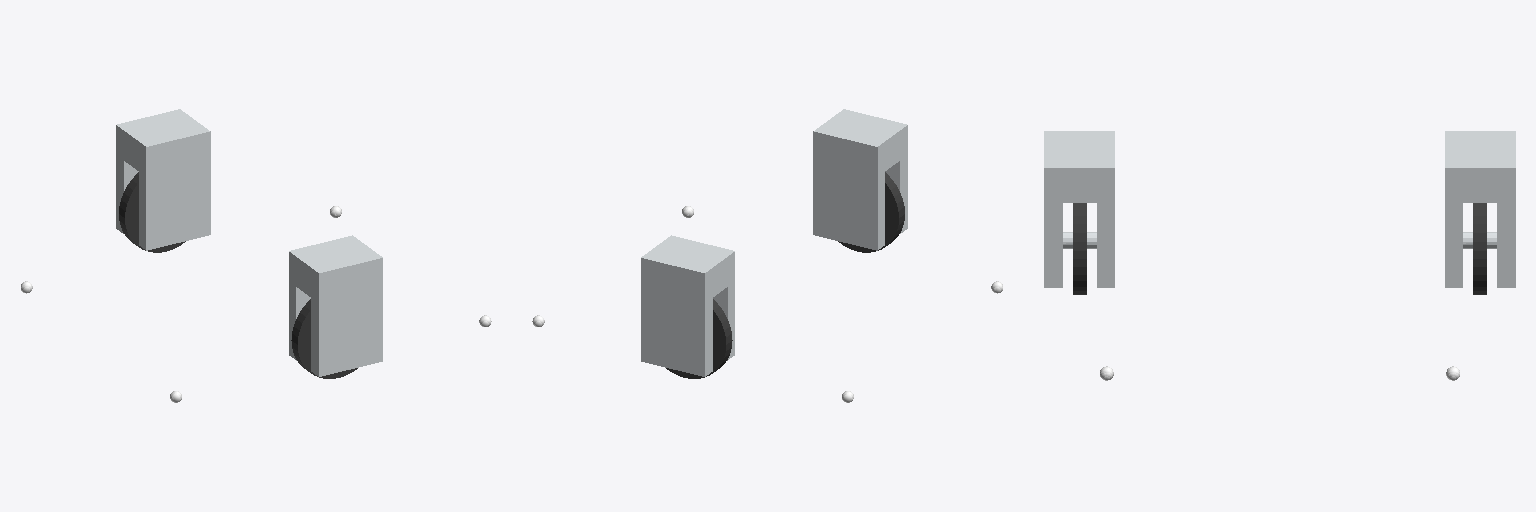
URDF robot description (robot_urdf):
<?xml version="1.0" encoding="utf-8"?>
<!-- This URDF was automatically created by SolidWorks to URDF Exporter! Originally created by
Stephen Brawner (brawner@gmail.com) 
     Commit Version: 1.6.0-4-g7f85cfe  Build Version: 1.6.7995.38578
     For more information, please see http://wiki.ros.org/sw_urdf_exporter -->
<robot
  name="robot_urdf">
  <link
    name="base_link">
  </link>
  <link
    name="chassis_link">
    <inertial>
      <origin
        xyz="-0.0030051 -1.8562E-16 -0.017698"
        rpy="0 0 0" />
      <mass
        value="62.522" />
      <inertia
        ixx="27.455"
        ixy="-5.3495E-14"
        ixz="-0.071116"
        iyy="29.275"
        iyz="-1.4035E-15"
        izz="51.49" />
    </inertial>
    <visual>
      <origin
        xyz="0 0 0"
        rpy="0 0 0" />
      <geometry>
        <mesh
          filename="package://robot_urdf/meshes/2w/chassis_link.STL" />
      </geometry>
      <material
        name="">
        <color
          rgba="0.89804 0.91765 0.92941 1" />
      </material>
    </visual>
    <collision>
      <origin
        xyz="0 0 0"
        rpy="0 0 0" />
      <geometry>
        <mesh
          filename="package://robot_urdf/meshes/2w/chassis_link.STL" />
      </geometry>
    </collision>
  </link>
  <joint
    name="chassis_joint"
    type="fixed">
    <origin
      xyz="0.067275 0 0.96832"
      rpy="0 0 0" />
    <parent
      link="base_link" />
    <child
      link="chassis_link" />
    <axis
      xyz="0 0 0" />
  </joint>
  <link
    name="left_wheel_holder_link">
    <inertial>
      <origin
        xyz="1.87350135405495E-16 -2.22044604925031E-16 -0.22960073744632"
        rpy="0 0 0" />
      <mass
        value="4.24194552497602" />
      <inertia
        ixx="0.12870471215313"
        ixy="-1.05546231829706E-16"
        ixz="-1.60218871072035E-16"
        iyy="0.135223950425351"
        iyz="4.92528640356397E-17"
        izz="0.0791209297176001" />
    </inertial>
    <visual>
      <origin
        xyz="0 0 0"
        rpy="0 0 0" />
      <geometry>
        <mesh
          filename="package://robot_urdf/meshes/2w/left_wheel_holder_link.STL" />
      </geometry>
      <material
        name="">
        <color
          rgba="0.898039215686275 0.917647058823529 0.929411764705882 1" />
      </material>
    </visual>
    <collision>
      <origin
        xyz="0 0 0"
        rpy="0 0 0" />
      <geometry>
        <mesh
          filename="package://robot_urdf/meshes/2w/left_wheel_holder_link.STL" />
      </geometry>
    </collision>
  </link>
  <joint
    name="left_wheel_holder_joint"
    type="fixed">
    <origin
      xyz="-0.067275 0.7012 -0.42432"
      rpy="0 0 0" />
    <parent
      link="chassis_link" />
    <child
      link="left_wheel_holder_link" />
    <axis
      xyz="0 0 0" />
  </joint>
  <link
    name="left_wheel_link">
    <inertial>
      <origin
        xyz="-6.93889390390723E-18 1.11022302462516E-16 -2.77555756156289E-17"
        rpy="0 0 0" />
      <mass
        value="5.91184905552528" />
      <inertia
        ixx="0.0568562229833385"
        ixy="-6.91191767359212E-18"
        ixz="-4.24872496741667E-34"
        iyy="0.111249175526875"
        iyz="-5.54086297297122E-35"
        izz="0.0568562229833384" />
    </inertial>
    <visual>
      <origin
        xyz="0 0 0"
        rpy="0 0 0" />
      <geometry>
        <mesh
          filename="package://robot_urdf/meshes/2w/left_wheel_link.STL" />
      </geometry>
      <material
        name="">
        <color
          rgba="0.298039215686275 0.298039215686275 0.298039215686275 1" />
      </material>
    </visual>
    <collision>
      <origin
        xyz="0 0 0"
        rpy="0 0 0" />
      <geometry>
        <mesh
          filename="package://robot_urdf/meshes/2w/left_wheel_link.STL" />
      </geometry>
    </collision>
  </link>
  <joint
    name="left_wheel_joint"
    type="continuous">
    <origin
      xyz="0 0 -0.35"
      rpy="0 0 0" />
    <parent
      link="left_wheel_holder_link" />
    <child
      link="left_wheel_link" />
    <axis
      xyz="0 -1 0" />
    <limit
      effort="100"
      velocity="10" />
    <dynamics damping="0.1" friction="0.05" />
  </joint>
  <link
    name="right_wheel_holder_link">
    <inertial>
      <origin
        xyz="1.04083408558608E-16 -1.11022302462516E-16 -0.229600737446319"
        rpy="0 0 0" />
      <mass
        value="4.24194552497604" />
      <inertia
        ixx="0.12870471215313"
        ixy="-8.86107503999811E-17"
        ixz="-1.77922564794508E-16"
        iyy="0.135223950425352"
        iyz="-4.8677348105335E-18"
        izz="0.0791209297176007" />
    </inertial>
    <visual>
      <origin
        xyz="0 0 0"
        rpy="0 0 0" />
      <geometry>
        <mesh
          filename="package://robot_urdf/meshes/2w/right_wheel_holder_link.STL" />
      </geometry>
      <material
        name="">
        <color
          rgba="0.898039215686275 0.917647058823529 0.929411764705882 1" />
      </material>
    </visual>
    <collision>
      <origin
        xyz="0 0 0"
        rpy="0 0 0" />
      <geometry>
        <mesh
          filename="package://robot_urdf/meshes/2w/right_wheel_holder_link.STL" />
      </geometry>
    </collision>
  </link>
  <joint
    name="right_wheel_holder_joint"
    type="fixed">
    <origin
      xyz="-0.067275 -0.7012 -0.42432"
      rpy="0 0 0" />
    <parent
      link="chassis_link" />
    <child
      link="right_wheel_holder_link" />
    <axis
      xyz="0 0 0" />
  </joint>
  <link
    name="right_wheel_link">
    <inertial>
      <origin
        xyz="-6.93889390390723E-18 -1.11022302462516E-16 -2.77555756156289E-17"
        rpy="0 0 0" />
      <mass
        value="5.91184905552528" />
      <inertia
        ixx="0.0568562229833385"
        ixy="-3.21890613138286E-35"
        ixz="-8.41424213201121E-34"
        iyy="0.111249175526875"
        iyz="1.47334202303585E-18"
        izz="0.0568562229833385" />
    </inertial>
    <visual>
      <origin
        xyz="0 0 0"
        rpy="0 0 0" />
      <geometry>
        <mesh
          filename="package://robot_urdf/meshes/2w/right_wheel_link.STL" />
      </geometry>
      <material
        name="">
        <color
          rgba="0.298039215686275 0.298039215686275 0.298039215686275 1" />
      </material>
    </visual>
    <collision>
      <origin
        xyz="0 0 0"
        rpy="0 0 0" />
      <geometry>
        <mesh
          filename="package://robot_urdf/meshes/2w/right_wheel_link.STL" />
      </geometry>
    </collision>
  </link>
  <joint
    name="right_wheel_joint"
    type="continuous">
    <origin
      xyz="0 0 -0.35"
      rpy="0 0 0" />
    <parent
      link="right_wheel_holder_link" />
    <child
      link="right_wheel_link" />
    <axis
      xyz="0 -1 0" />
    <limit
      effort="100"
      velocity="10" />
    <dynamics damping="0.1" friction="0.05" />
  </joint>
  <link
    name="ball_link_fl">
    <visual>
      <origin
        xyz="0 0 0"
        rpy="0 0 0" />
      <geometry>
        <sphere radius="0.025" />
      </geometry>
      <material
        name="">
        <color
          rgba="1 1 1 1" />
      </material>
    </visual>
    <collision>
      <origin xyz="0 0 0" rpy="0 0 0" />
      <geometry>
        <sphere radius="0.025" />
      </geometry>
    </collision>
  </link>
  <joint
    name="ball_joint_fl"
    type="fixed">
    <origin
      xyz="0.68801 0.6072 -0.93832"
      rpy="0 0 0" />
    <parent
      link="chassis_link" />
    <child
      link="ball_link_fl" />
    <axis
      xyz="0 1 0" />
  </joint>
  <link
    name="ball_link_fr">
    <visual>
      <origin
        xyz="0 0 0"
        rpy="0 0 0" />
      <geometry>
        <sphere radius="0.025" />
      </geometry>
      <material
        name="">
        <color
          rgba="1 1 1 1" />
      </material>
    </visual>
    <collision>
      <origin xyz="0 0 0" rpy="0 0 0" />
      <geometry>
        <sphere radius="0.025" />
      </geometry>
    </collision>
  </link>
  <joint
    name="ball_joint_fr"
    type="fixed">
    <origin
      xyz="0.68801 -0.6072 -0.93832"
      rpy="0 0 0" />
    <parent
      link="chassis_link" />
    <child
      link="ball_link_fr" />
    <axis
      xyz="0 1 0" />
  </joint>
  <link
    name="ball_link_br">
    <visual>
      <origin
        xyz="0 0 0"
        rpy="0 0 0" />
      <geometry>
        <sphere radius="0.025" />
      </geometry>
      <material
        name="">
        <color
          rgba="1 1 1 1" />
      </material>
    </visual>
    <collision>
      <origin xyz="0 0 0" rpy="0 0 0" />
      <geometry>
        <sphere radius="0.025" />
      </geometry>
    </collision>
  </link>
  <joint
    name="ball_joint_br"
    type="fixed">
    <origin
      xyz="-0.76256 -0.6072 -0.93832"
      rpy="0 0 0" />
    <parent
      link="chassis_link" />
    <child
      link="ball_link_br" />
    <axis
      xyz="0 1 0" />
  </joint>
  <link
    name="ball_link_bl">
    <visual>
      <origin
        xyz="0 0 0"
        rpy="0 0 0" />
      <geometry>
        <sphere radius="0.025" />
      </geometry>
      <material
        name="">
        <color
          rgba="1 1 1 1" />
      </material>
    </visual>
    <collision>
      <origin xyz="0 0 0" rpy="0 0 0" />
      <geometry>
        <sphere radius="0.025" />
      </geometry>
    </collision>
  </link>
  <joint
    name="ball_joint_bl"
    type="fixed">
    <origin
      xyz="-0.76256 0.6072 -0.93832"
      rpy="0 0 0" />
    <parent
      link="chassis_link" />
    <child
      link="ball_link_bl" />
    <axis
      xyz="0 1 0" />
  </joint>

  <link
    name="depth_link_r">
  </link>

  <joint
    name="depth_joint_r"
    type="fixed">
    <origin
      xyz="1.017 -0.45 -0.21645"
      rpy="0 0.7853982 0.2618" />
    <parent
      link="chassis_link" />
    <child
      link="depth_link_r" />
    <axis
      xyz="0 0 0" />
  </joint>

  <link
    name="depth_link_l">
  </link>

  <joint
    name="depth_joint_l"
    type="fixed">
    <origin
      xyz="1.017 0.45 -0.21645"
      rpy="0 0.7853982 -0.2618" />
    <parent
      link="chassis_link" />
    <child
      link="depth_link_l" />
    <axis
      xyz="0 0 0" />
  </joint>

  <ros2_control name="IgnitionSystem" type="system">

    <hardware>
      <plugin>ign_ros2_control/IgnitionSystem</plugin>
    </hardware>

    <joint name="left_wheel_joint">
      <command_interface name="velocity" />
      <state_interface name="position" />
      <state_interface name="velocity" />
    </joint>

    <joint name="right_wheel_joint">
      <command_interface name="velocity" />
      <state_interface name="position" />
      <state_interface name="velocity" />
    </joint>

  </ros2_control>

  <gazebo>

    <plugin filename="libign_ros2_control-system.so"
      name="ign_ros2_control::IgnitionROS2ControlPlugin">
      <robot_param>robot_description</robot_param>
      <robot_param_node>robot_state_publisher</robot_param_node>
      <parameters>/home/manfred/Projects/Vitrox/src/robot_urdf/config/diffdrive.yaml</parameters>
    </plugin>

  </gazebo>

  <gazebo reference="left_wheel_link">
    <mu1>1.2</mu1>
    <mu2>1.2</mu2>
    <kp>1000000.0</kp>
    <kd>100.0</kd>
    <minDepth>0.001</minDepth>
    <maxContacts>1</maxContacts>
  </gazebo>

  <gazebo reference="right_wheel_link">
    <mu1>1.2</mu1>
    <mu2>1.2</mu2>
    <kp>1000000.0</kp>
    <kd>100.0</kd>
    <minDepth>0.001</minDepth>
    <maxContacts>1</maxContacts>
  </gazebo>

  <gazebo reference="ball_link_fl">
    <mu1>0.0</mu1>
    <mu2>0.0</mu2>
  </gazebo>

  <gazebo reference="ball_link_fr">
    <mu1>0.0</mu1>
    <mu2>0.0</mu2>
  </gazebo>

  <gazebo reference="ball_link_br">
    <mu1>0.0</mu1>
    <mu2>0.0</mu2>
  </gazebo>

  <gazebo reference="ball_link_bl">
    <mu1>0.0</mu1>
    <mu2>0.0</mu2>
  </gazebo>

  <gazebo reference="depth_link_l">
    <sensor name="depth_sensor_l" type="gpu_lidar">
      <ignition_frame_id>depth_link_l</ignition_frame_id>
      <topic>lidar_l</topic>
      <update_rate>10</update_rate>
      <always_on>true</always_on>
      <visualize>false</visualize> <!-- Keep false to save resources unless debugging rays -->
      <lidar>
        <scan>
          <horizontal>
            <samples>360</samples>
            <resolution>1</resolution>
            <min_angle>-0.50705</min_angle>
            <max_angle>0.50705</max_angle>
          </horizontal>
          <vertical>
            <samples>100</samples> <!-- 16 vertical slices provides a good 3D point cloud -->
            <resolution>1</resolution>
            <min_angle>-0.39445</min_angle> <!-- -15 degrees -->
            <max_angle>0.39445</max_angle>  <!-- +15 degrees -->
          </vertical>
        </scan>
        <range>
          <min>0.1</min>
          <max>15.0</max> <!-- 15 meter range is typical -->
          <resolution>0.01</resolution>
        </range>
        <noise>
          <type>gaussian</type>
          <mean>0.0</mean>
          <stddev>0.01</stddev>
        </noise>
      </lidar>
    </sensor>
  </gazebo>

  <gazebo reference="depth_link_r">
    <sensor name="depth_sensor_r" type="gpu_lidar">
      <ignition_frame_id>depth_link_r</ignition_frame_id>
      <topic>lidar_r</topic>
      <update_rate>10</update_rate>
      <always_on>true</always_on>
      <visualize>false</visualize>
      <lidar>
        <scan>
          <horizontal>
            <samples>360</samples>
            <resolution>1</resolution>
            <min_angle>-0.50705</min_angle>
            <max_angle>0.50705</max_angle>
          </horizontal>
          <vertical>
            <samples>100</samples>
            <resolution>1</resolution>
            <min_angle>-0.39445</min_angle>
            <max_angle>0.39445</max_angle>
          </vertical>
        </scan>
        <range>
          <min>0.1</min>
          <max>15.0</max>
          <resolution>0.01</resolution>
        </range>
        <noise>
          <type>gaussian</type>
          <mean>0.0</mean>
          <stddev>0.01</stddev>
        </noise>
      </lidar>
    </sensor>
  </gazebo>
</robot>

--- Render facts (derived) ---
The picture shows the robot from 3 angles, left to right: view 1: azimuth 30°, elevation 25°; view 2: azimuth 150°, elevation 25°; view 3: azimuth 270°, elevation 25°; orthographic projection.
Robot: robot_urdf — 12 links, 11 joints (2 continuous, 9 fixed); root link base_link; default pose: every joint at zero.
Visible links, largest first — view 1: left_wheel_holder_link, right_wheel_holder_link, left_wheel_link, right_wheel_link; view 2: right_wheel_holder_link, left_wheel_holder_link, right_wheel_link, left_wheel_link; view 3: left_wheel_holder_link, right_wheel_holder_link, left_wheel_link, right_wheel_link.
Boxes of the visible links, left/top/right/bottom form: left_wheel_holder_link: left=116, top=109, right=210, bottom=250; right_wheel_holder_link: left=289, top=235, right=382, bottom=376; left_wheel_link: left=119, top=172, right=185, bottom=252; right_wheel_link: left=291, top=299, right=357, bottom=378; right_wheel_holder_link: left=813, top=109, right=907, bottom=250; left_wheel_holder_link: left=641, top=235, right=734, bottom=376; right_wheel_link: left=838, top=172, right=904, bottom=252; left_wheel_link: left=666, top=299, right=732, bottom=378; left_wheel_holder_link: left=1445, top=131, right=1515, bottom=287; right_wheel_holder_link: left=1044, top=131, right=1114, bottom=287; left_wheel_link: left=1473, top=203, right=1486, bottom=294; right_wheel_link: left=1073, top=203, right=1086, bottom=294.
Size in the robot's own frame: 1.5 by 1.65 by 0.5438 metres.
Meshes: 5 distinct files referenced, 4 mesh visuals loaded (4 binary STL); not drawn: 1 (reference not matched to a file when rendering).
